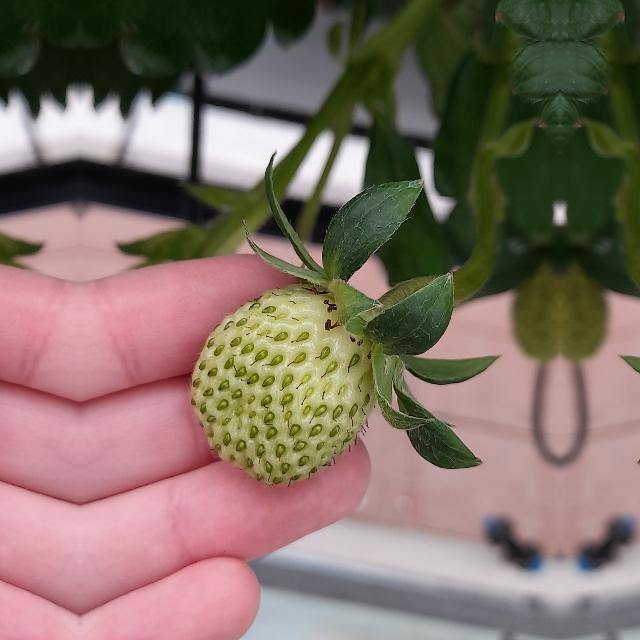Health_25: (190, 284, 376, 484)
